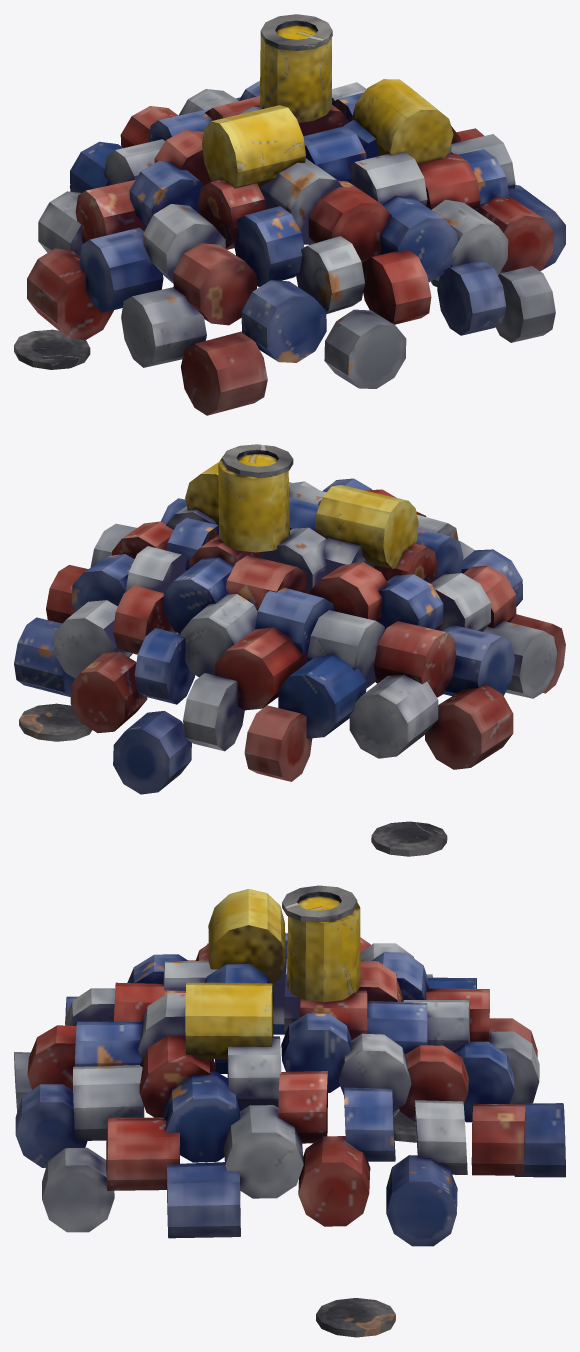
Rendered from BushCans.glb.
The picture shows the model from 3 angles, top to bottom: view 1: azimuth 30°, elevation 25°; view 2: azimuth 150°, elevation 25°; view 3: azimuth 270°, elevation 25°; orthographic projection. The views are drawn at different scales.
Visible parts, largest first — view 1: Cans1, Cans3, Cans2, WholeCans, Lids; view 2: Cans1, Cans2, Cans3, WholeCans, Lids; view 3: Cans2, Cans3, Cans1, WholeCans, Lids.
Part boxes in pixels (x1=…): Cans1: x1=27, y1=96, x2=553, y2=415; Cans3: x1=38, y1=82, x2=555, y2=388; Cans2: x1=70, y1=80, x2=565, y2=362; WholeCans: x1=202, y1=25, x2=453, y2=188; Lids: x1=14, y1=14, x2=502, y2=369; Cans1: x1=46, y1=489, x2=565, y2=781; Cans2: x1=14, y1=478, x2=522, y2=794; Cans3: x1=54, y1=481, x2=557, y2=758; WholeCans: x1=185, y1=453, x2=418, y2=568; Lids: x1=19, y1=444, x2=447, y2=856; Cans2: x1=15, y1=933, x2=565, y2=1246; Cans3: x1=14, y1=940, x2=539, y2=1232; Cans1: x1=27, y1=937, x2=537, y2=1226; WholeCans: x1=185, y1=889, x2=360, y2=1059; Lids: x1=282, y1=885, x2=416, y2=1337.
Bounding box in the file's own units: 3.06 × 1.94 × 2.94.
Materials: 5 (5 with a texture image).
